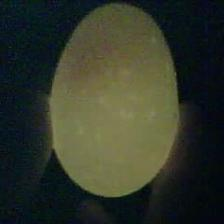infertile: (48, 2, 183, 197)
